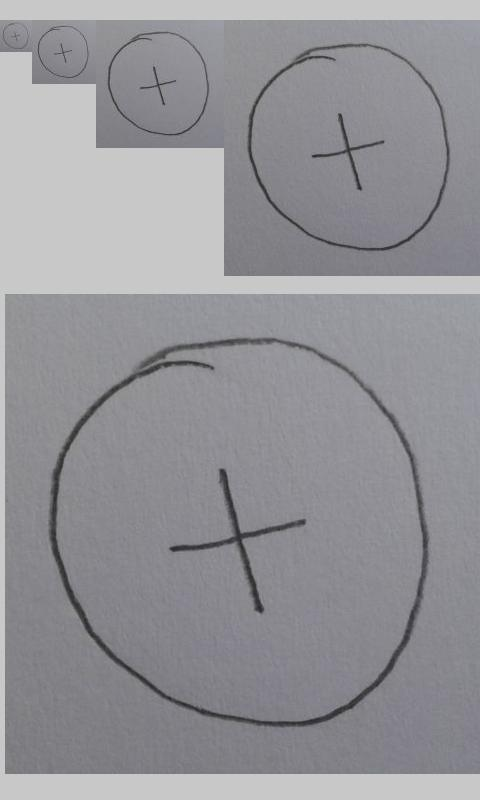button: (48, 336, 429, 729), (247, 43, 451, 252), (107, 31, 210, 136), (37, 25, 89, 79), (2, 22, 29, 50)
